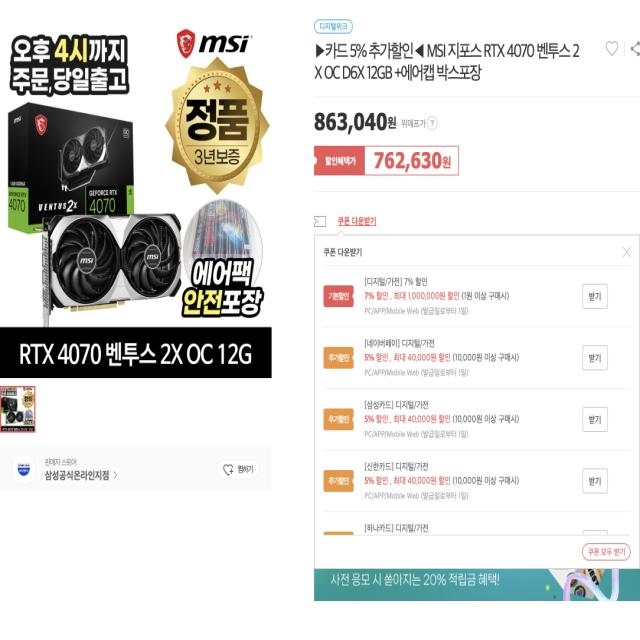product_discount_price: (368, 149, 454, 175)
product_name: (310, 40, 584, 87)
product_original_price: (312, 111, 398, 142)
